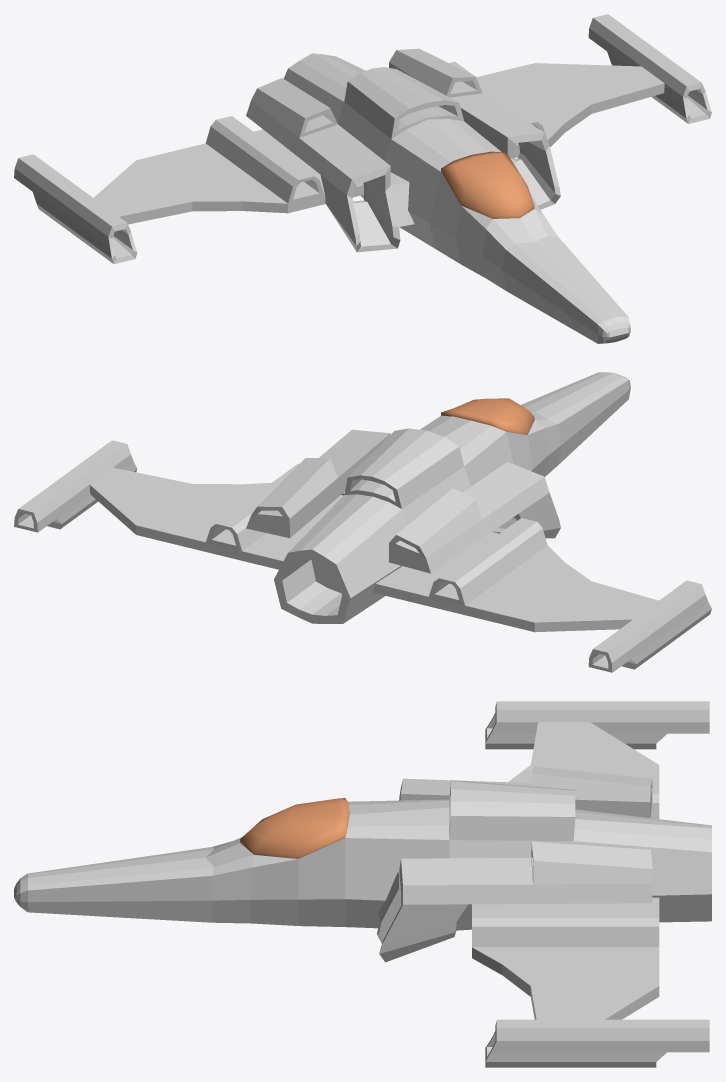
File: Spaceship3.glb
3 views of the same model, one above another, from view 1: azimuth 30°, elevation 25°; view 2: azimuth 150°, elevation 25°; view 3: azimuth 270°, elevation 25° (orthographic). The views are drawn at different scales.
Visible parts, largest first — view 1: Spaceship3; view 2: Spaceship3; view 3: Spaceship3.
Part boxes in pixels (x1,y1,x2,y2): Spaceship3: (14, 14, 711, 343); Spaceship3: (14, 372, 711, 672); Spaceship3: (14, 701, 711, 1067).
Size of the model in its own units: 10.38 by 1.86 by 9.21.
